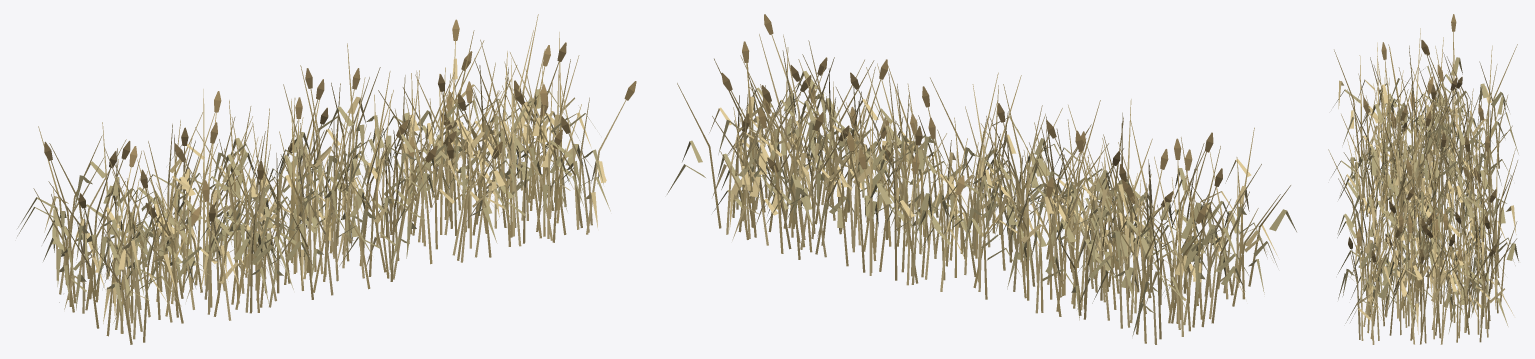
Rendered from CW_ReedVolume.fbx.
3 views of the same model, side by side, from view 1: azimuth 30°, elevation 25°; view 2: azimuth 150°, elevation 25°; view 3: azimuth 270°, elevation 25° (orthographic). The views are drawn at different scales.
Visible parts, largest first — view 1: CW_ReedVolume; view 2: CW_ReedVolume; view 3: CW_ReedVolume.
Part boxes in pixels (x1,y1,x2,y2): CW_ReedVolume: [17, 14, 636, 344]; CW_ReedVolume: [667, 14, 1296, 344]; CW_ReedVolume: [1328, 14, 1518, 344].
Bounding box in the file's own units: 4 × 1.2 × 1.5.
